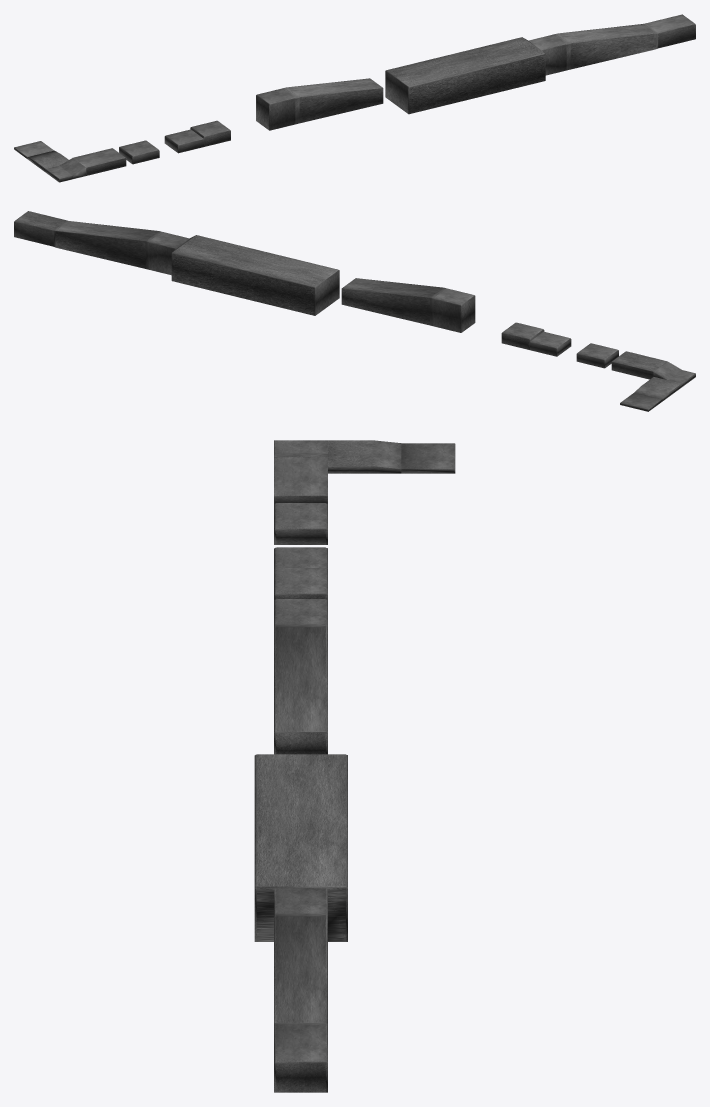
Rendered from Floor.fbx.
3 views of the same model, one above another, from view 1: azimuth 30°, elevation 25°; view 2: azimuth 150°, elevation 25°; view 3: azimuth 270°, elevation 25° (orthographic). The views are drawn at different scales.
Visible parts, largest first — view 1: Cube.001, Cube.002, Cube.004, Cube.003, Cube; view 2: Cube.001, Cube.002, Cube.004, Cube.003, Cube; view 3: Cube.001, Cube.002, Cube.004, Cube.003, Cube.
Part boxes in pixels (bbox=[...]): Cube.001: bbox=[385, 14, 695, 114]; Cube.002: bbox=[256, 78, 383, 130]; Cube.004: bbox=[14, 141, 126, 182]; Cube.003: bbox=[164, 120, 230, 153]; Cube: bbox=[119, 140, 159, 164]; Cube.001: bbox=[14, 211, 339, 315]; Cube.002: bbox=[341, 278, 475, 332]; Cube.004: bbox=[611, 351, 695, 411]; Cube.003: bbox=[501, 322, 571, 356]; Cube: bbox=[576, 343, 618, 368]; Cube.001: bbox=[254, 754, 347, 1092]; Cube.002: bbox=[274, 599, 327, 754]; Cube.004: bbox=[274, 440, 455, 503]; Cube.003: bbox=[274, 547, 327, 599]; Cube: bbox=[274, 503, 327, 544].
Size of the model in its own units: 1528 by 90.7 by 209.
Materials: 13 (13 with a texture image).
